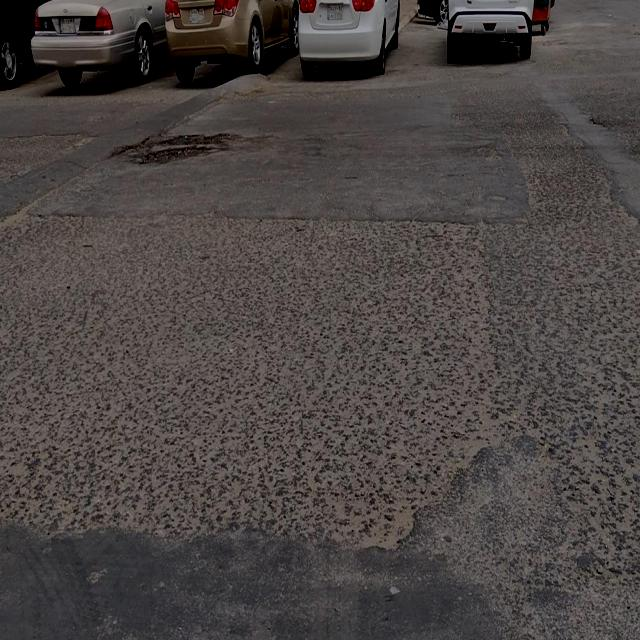Potholes: (122, 129, 230, 168)
